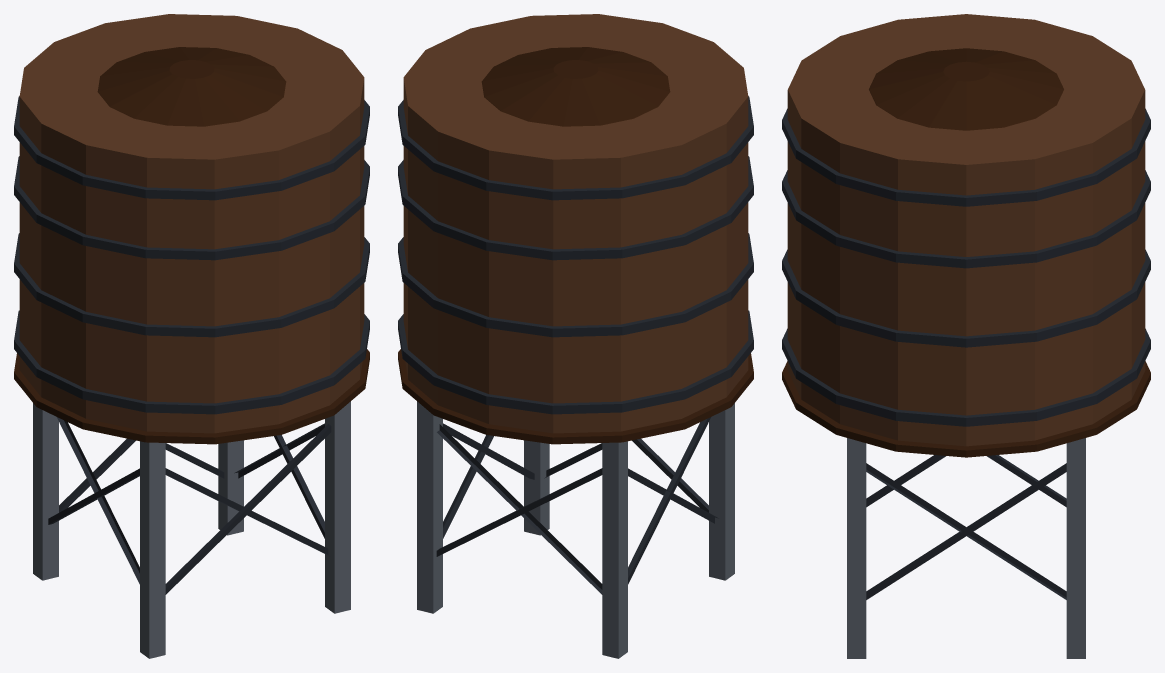
File: water_tank.glb
3 views of the same model, side by side, from view 1: azimuth 30°, elevation 25°; view 2: azimuth 150°, elevation 25°; view 3: azimuth 270°, elevation 25° (orthographic). The views are drawn at different scales.
Visible parts, largest first — view 1: water_tank; view 2: water_tank; view 3: water_tank.
Part boxes in pixels (x1=…): water_tank: x1=14, y1=14, x2=369, y2=658; water_tank: x1=398, y1=14, x2=753, y2=658; water_tank: x1=782, y1=14, x2=1150, y2=658.
Size of the model in its own units: 1.9 by 3.05 by 1.9.
